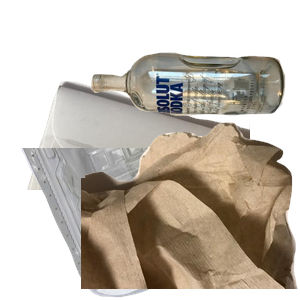glass: (88, 50, 300, 158)
paper: (25, 79, 265, 259)
plastic: (19, 148, 259, 300)
trash: (81, 120, 300, 300)
